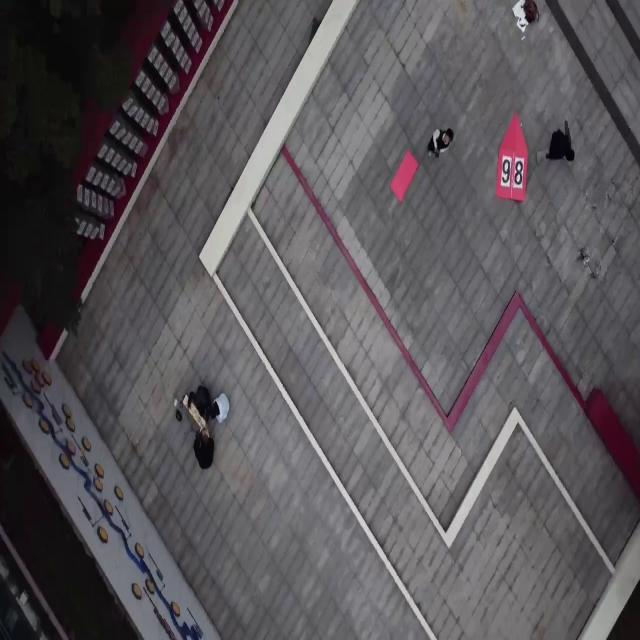-sign-: (495, 112, 529, 203), (390, 149, 419, 203)
